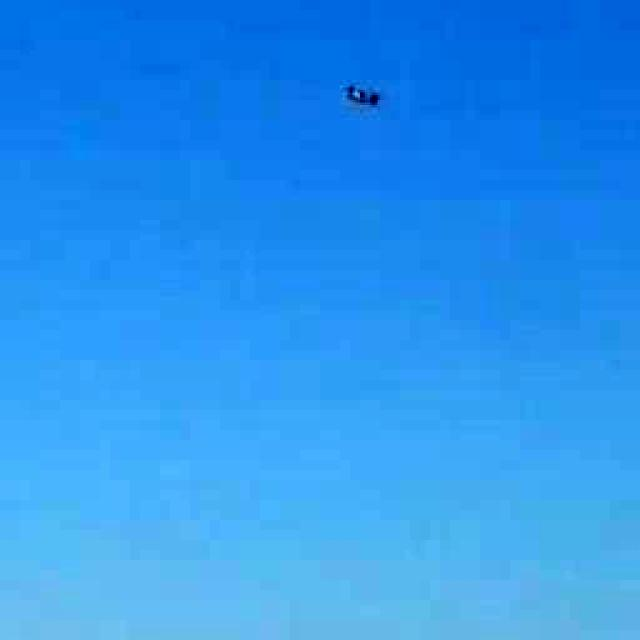bird: (329, 61, 406, 141)
